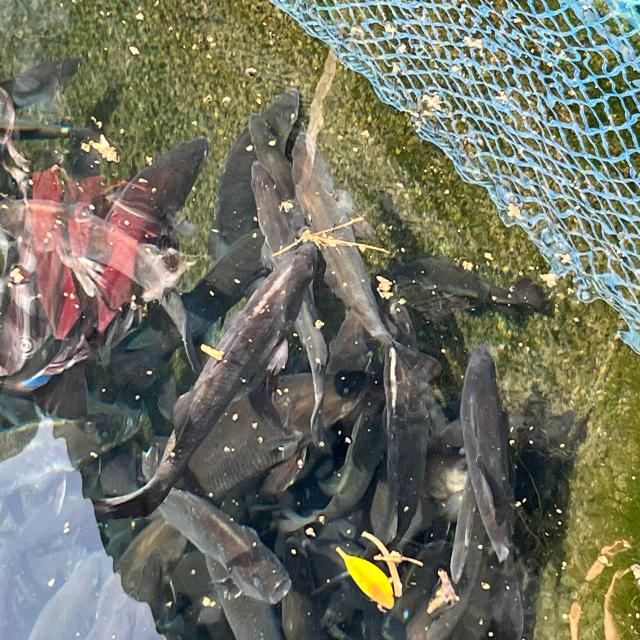ikan: (89, 240, 320, 520), (449, 342, 517, 584), (381, 254, 552, 317)
